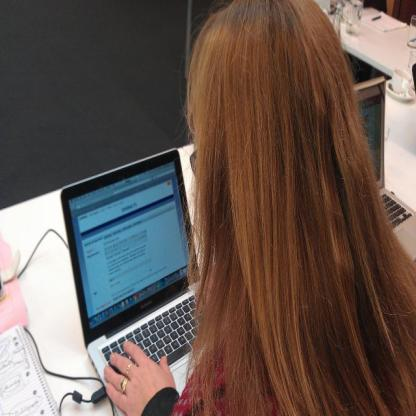board: (62, 149, 203, 416), (354, 74, 416, 262)
